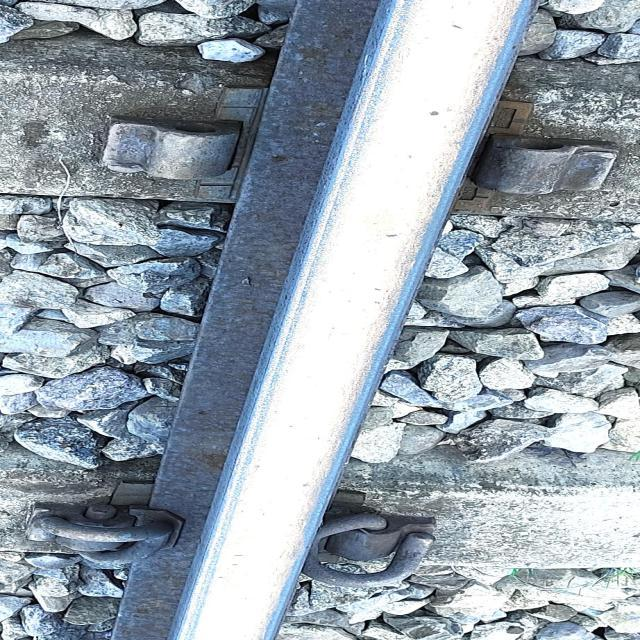Good Fasteners: (28, 505, 179, 568), (303, 515, 435, 587)
Missing Fastener: (0, 31, 276, 202), (471, 138, 617, 195)
